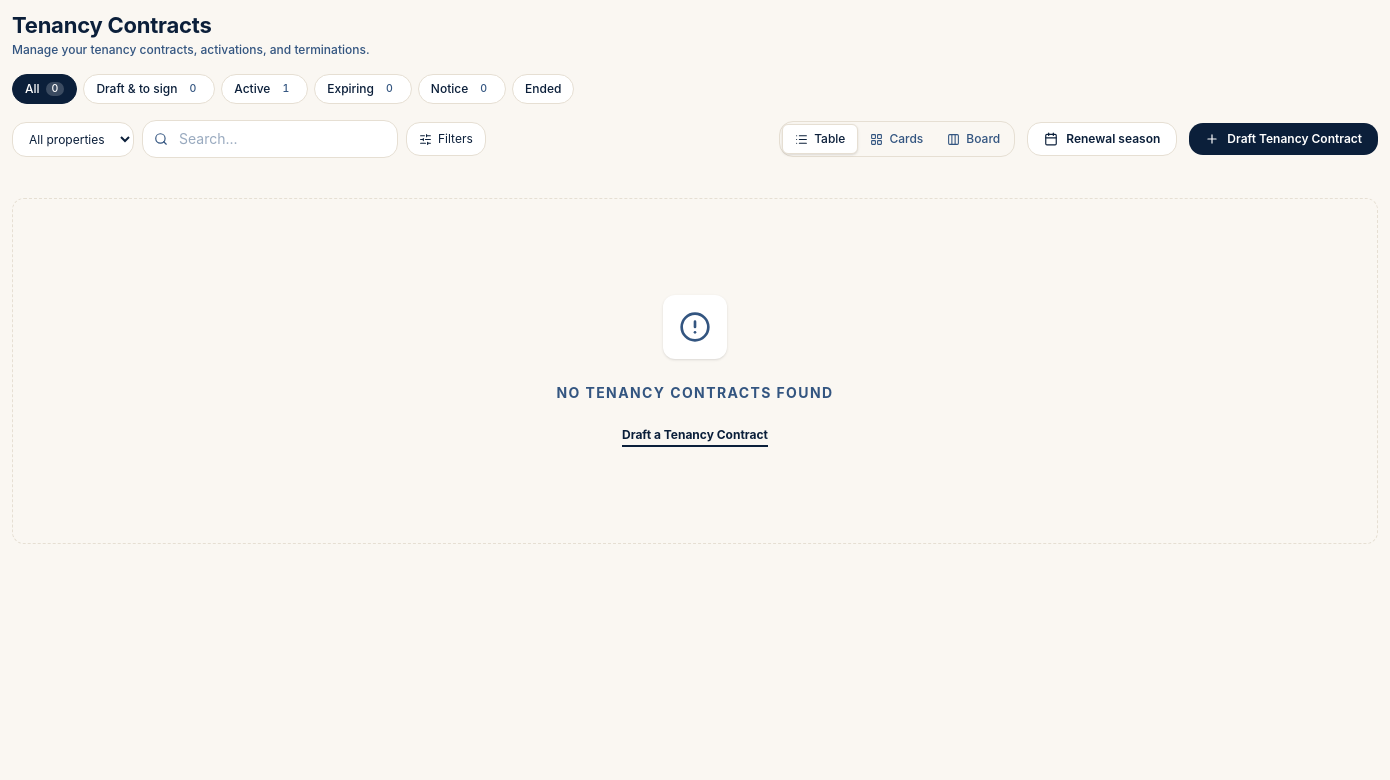
Contract list — #105 N1: the multi-round (Draft/Ended) read is stale-guarded too › never lets a slow Ended (multi-status) read overwrite a faster, newer Active selection
Expected: the button with test id "contract-pill-all" is shown, [12,74,77,104]
Step 1. Click the button with test id "contract-pill-ended" → point(543, 89), box [512,74,574,104]
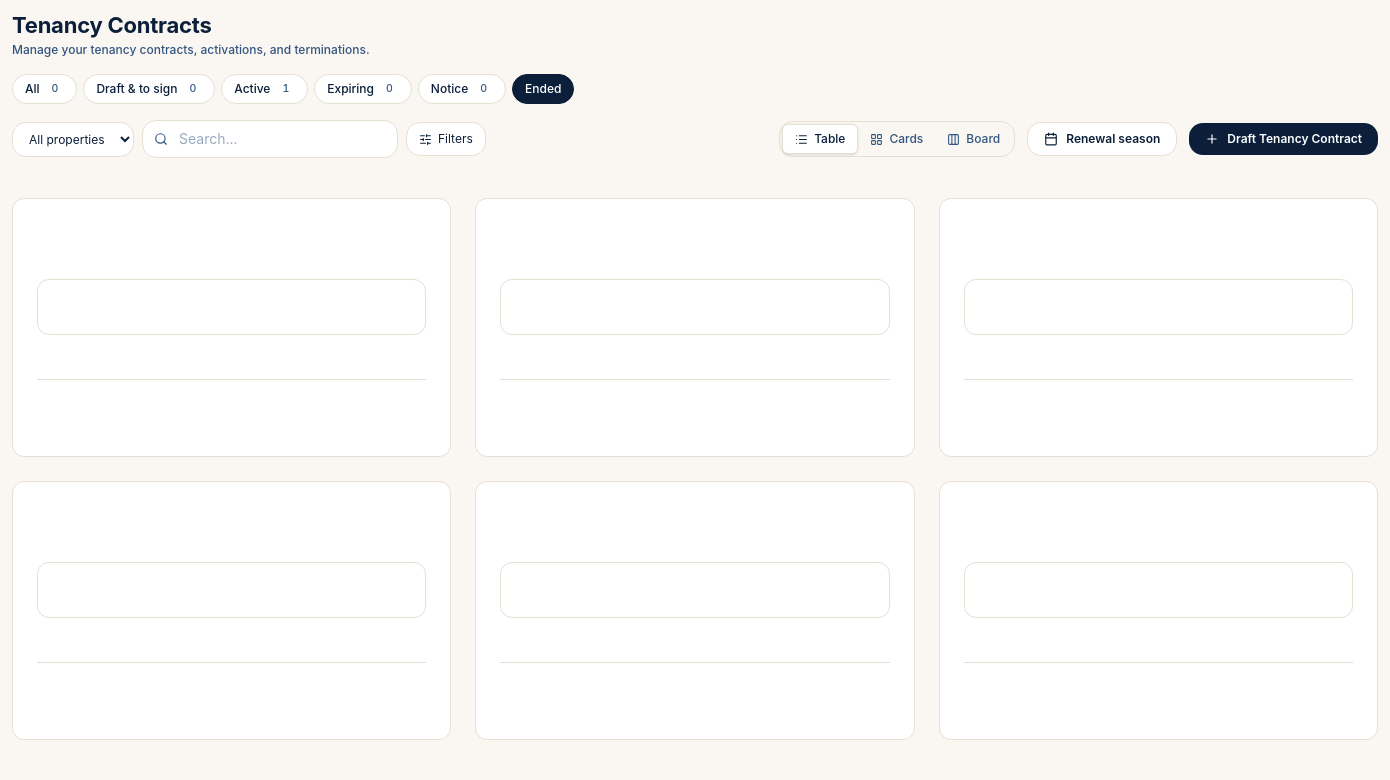
Step 2. Click the button with test id "contract-pill-active" → point(265, 89), box [221,74,308,104]
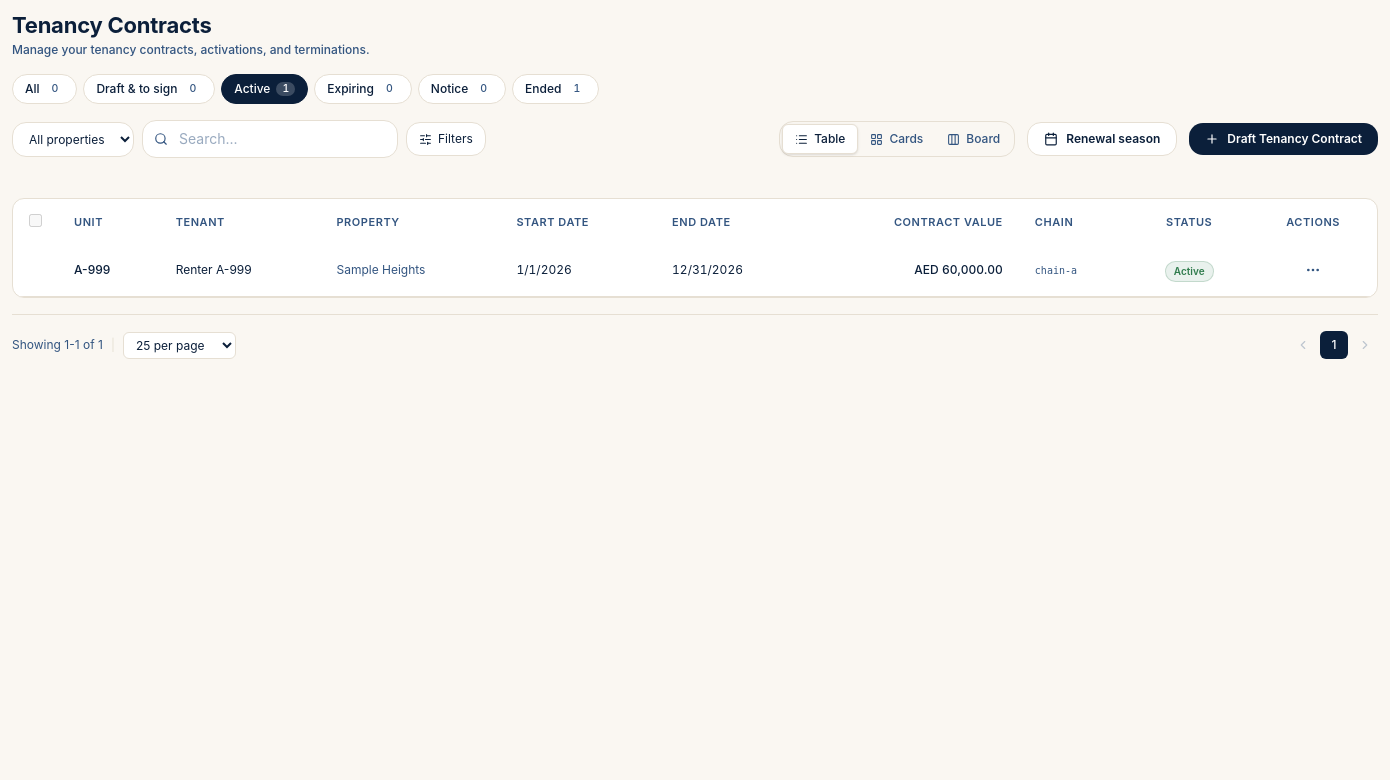
Now the row with test id "lease-row-l-active" is shown, box [13,244,1377,297]
